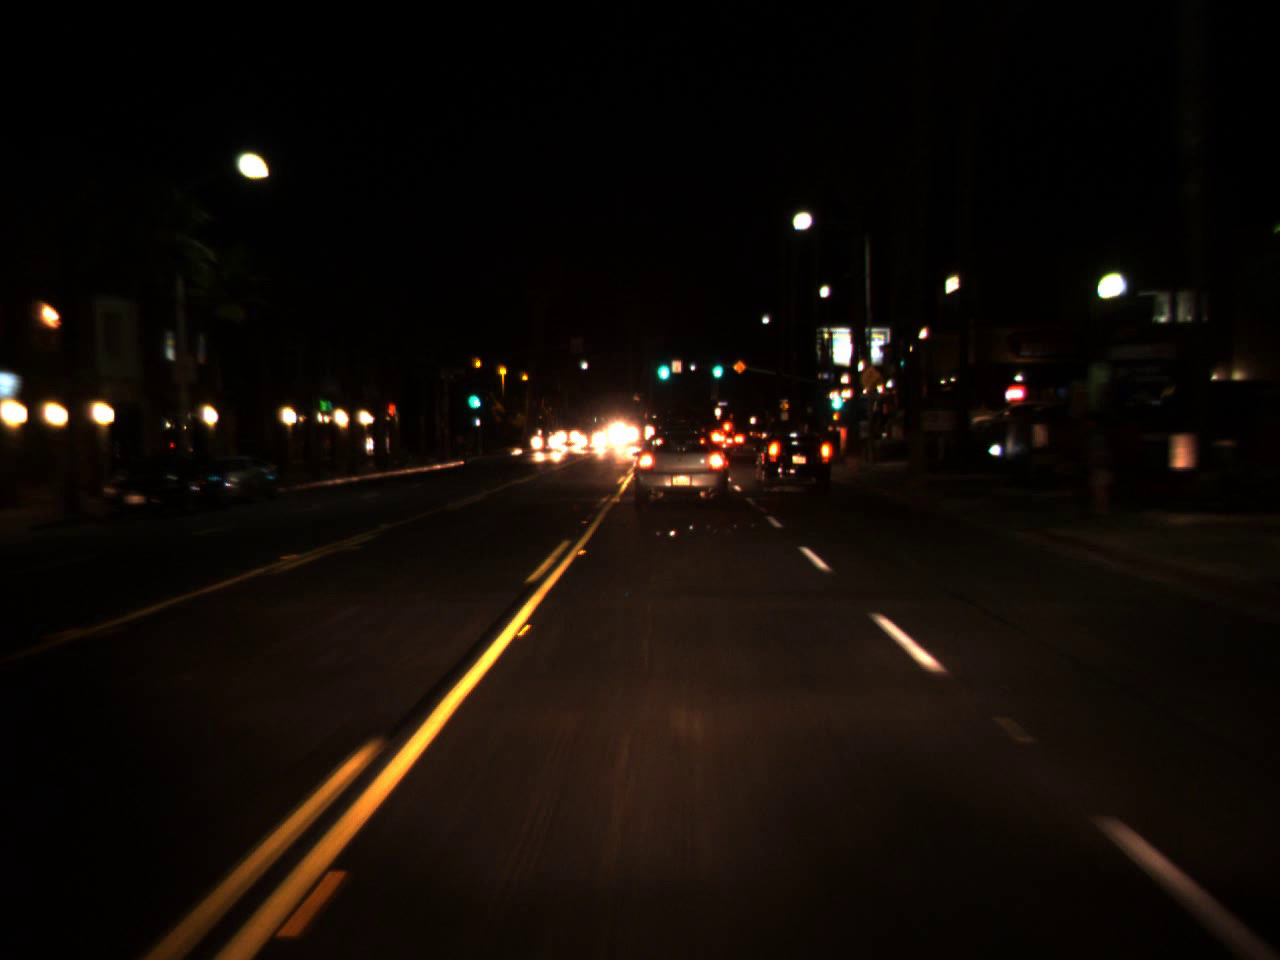go: (653, 349, 672, 385), (825, 381, 844, 414), (465, 382, 481, 412), (709, 352, 725, 379)
